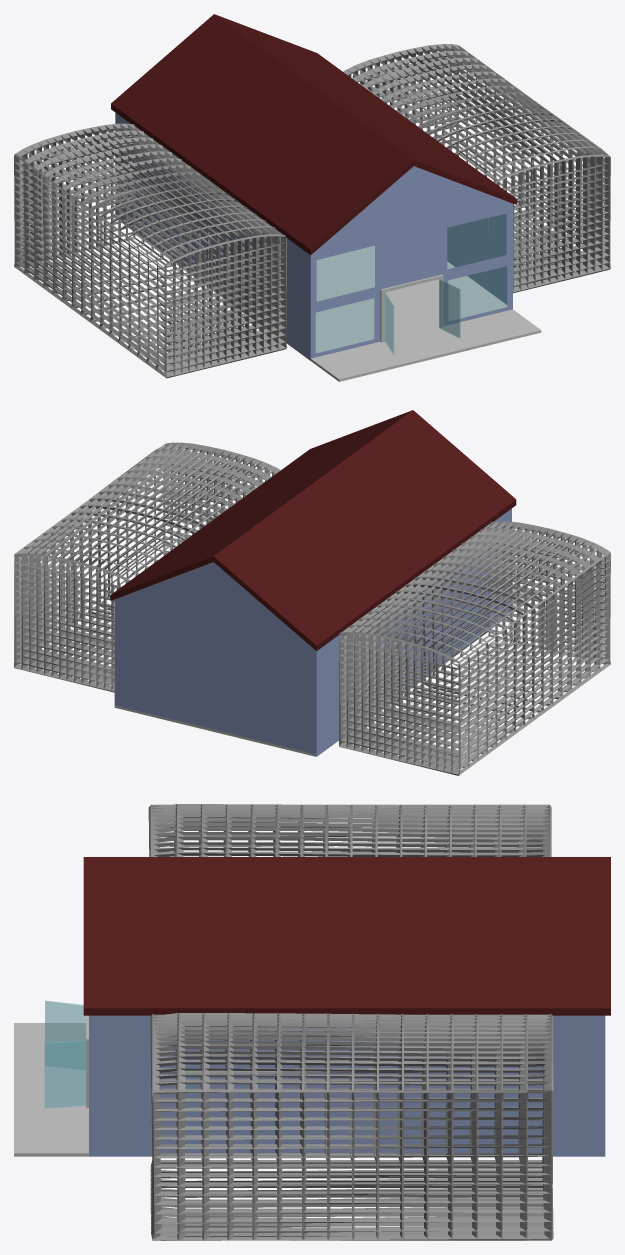
File: breeding facility.fbx
The picture shows the model from 3 angles, top to bottom: view 1: azimuth 30°, elevation 25°; view 2: azimuth 150°, elevation 25°; view 3: azimuth 270°, elevation 25°; orthographic projection. The views are drawn at different scales.
Parts seen in each view (by area): view 1: Cube.001, Cube, Cube.002; view 2: Cube.001, Cube, Cube.002; view 3: Cube.001, Cube.002, Cube.
Part boxes in pixels (bbox=[...]): Cube.001: bbox=[111, 14, 541, 381]; Cube: bbox=[14, 123, 287, 378]; Cube.002: bbox=[343, 44, 610, 293]; Cube.001: bbox=[110, 410, 538, 756]; Cube: bbox=[339, 521, 610, 775]; Cube.002: bbox=[14, 442, 280, 692]; Cube.001: bbox=[14, 857, 610, 1156]; Cube.002: bbox=[150, 1013, 553, 1240]; Cube: bbox=[148, 804, 551, 856].
Bounding box in the file's own units: 15907 × 6260 × 13943.
